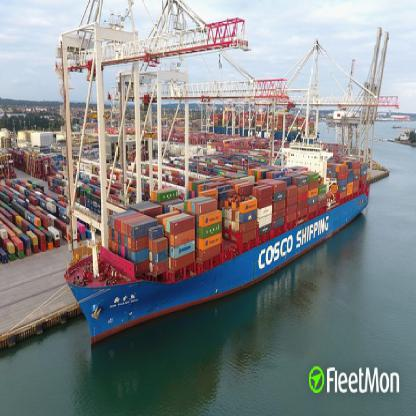Merchant Ship: (64, 128, 372, 348), (208, 111, 320, 143)
